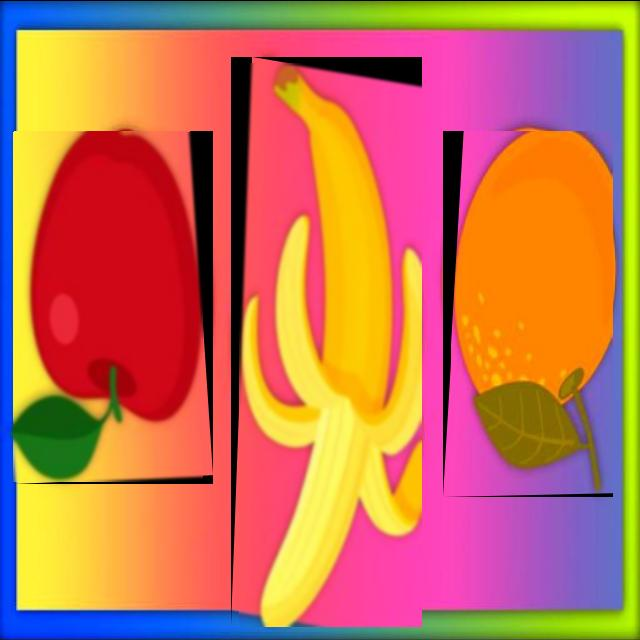Apple: (14, 131, 203, 480)
Banana: (239, 62, 422, 625)
Orange: (452, 130, 612, 493)
